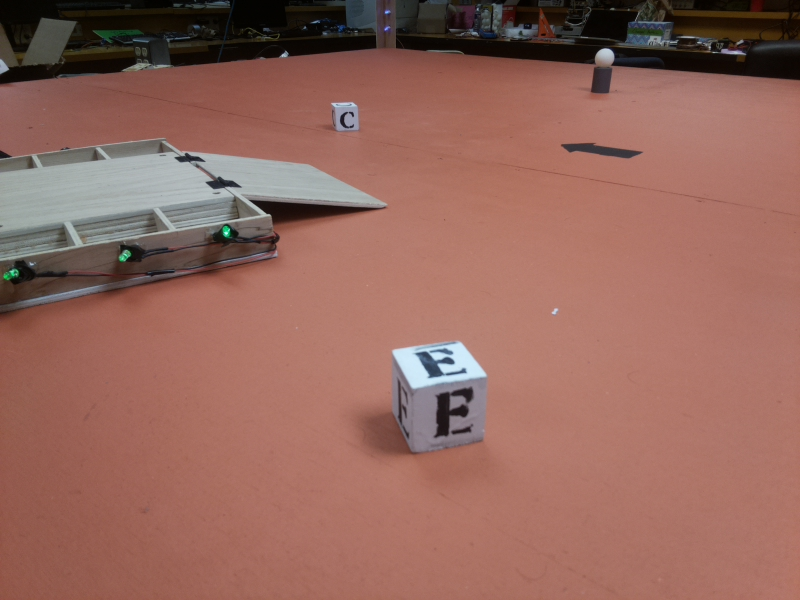blockC: (328, 100, 362, 136)
blockE: (387, 339, 493, 452)
corner: (373, 1, 399, 52)
obstacle: (592, 51, 615, 99)
side: (8, 196, 283, 310)
slope: (187, 146, 389, 216)
start: (561, 139, 644, 163)
